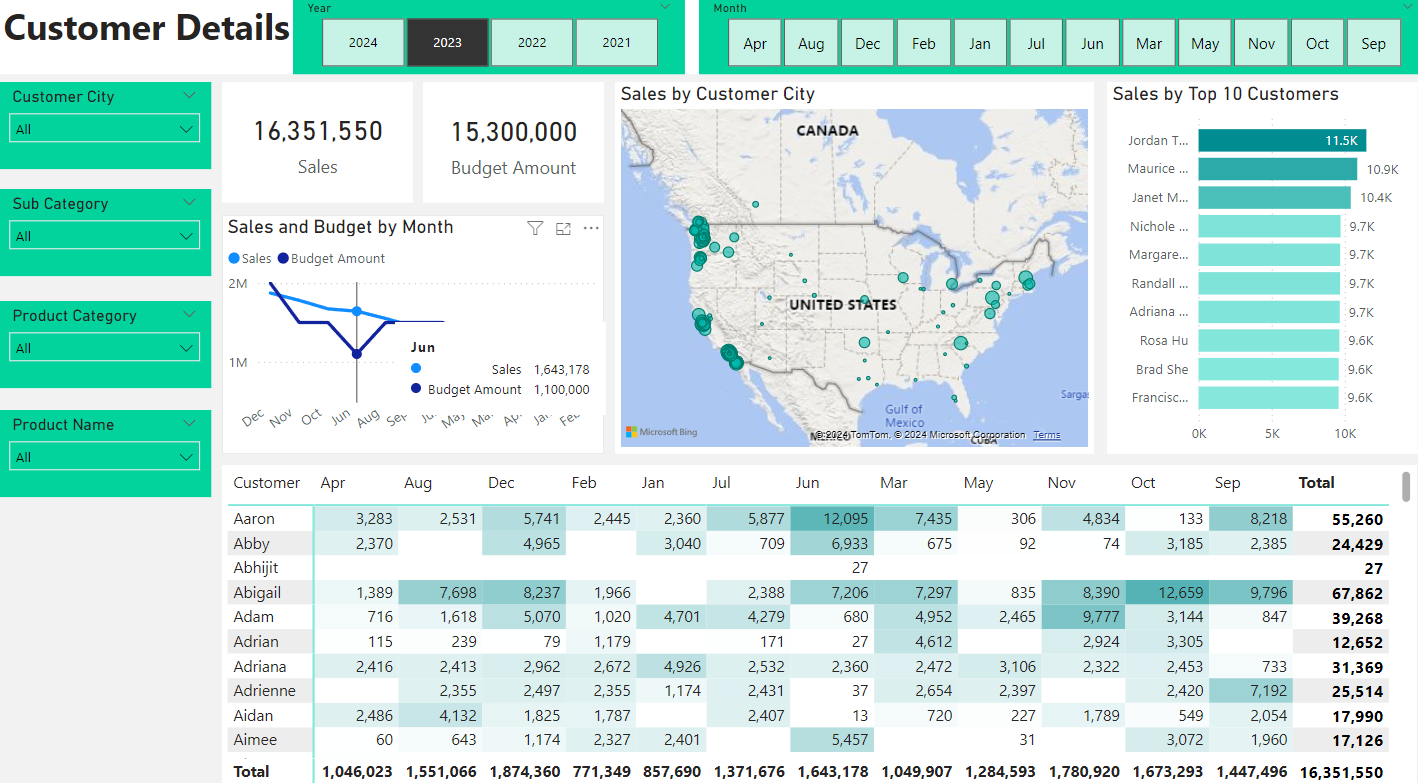

Layout of this report page (visuals, bound fields, positions):
{"tool":"powerbi","page":{"name":"Customer Details","canvas":[1280,720],"ordinal":1},"visuals":[{"type":"textbox","box":[0,0,1280,71.2],"z":0},{"type":"slicer","fields":{"Values":["DIM_Customers.Customer City"]},"box":[0,78.3,190.8,78.3],"z":1000},{"type":"slicer","fields":{"Values":["DIM_Products.Sub Category"]},"box":[0,173.6,190.8,78.3],"z":2000},{"type":"slicer","fields":{"Values":["DIM_Products.Product Category"]},"box":[0,273.9,190.8,78.3],"z":3000},{"type":"slicer","fields":{"Values":["DIM_Products.Product Name"]},"box":[0,371.7,190.8,78.3],"z":4000},{"type":"lineChart","title":"Sales and Budget by Month","fields":{"Y":["Key Measures.Sales","Key Measures.Budget Amount"],"Category":["DIM_Calender.MonthShort"]},"box":[200.5,196.9,342.4,214],"z":6000},{"type":"slicer","fields":{"Values":["DIM_Calender.MonthShort"]},"box":[627.5,0,652.5,71.2],"z":7000},{"type":"slicer","fields":{"Values":["DIM_Calender.Year"]},"box":[264.1,0,351,70.9],"z":8000},{"type":"barChart","title":"Sales by Top 10 Customers","fields":{"Y":["Key Measures.Sales"],"Category":["DIM_Customers.Full Name"]},"box":[992.9,78.3,277.6,332.6],"z":9000},{"type":"map","fields":{"Category":["DIM_Customers.Customer City"],"Size":["Key Measures.Sales"]},"box":[552.7,78.3,429.2,332.6],"z":10000},{"type":"card","fields":{"Values":["Key Measures.Sales"]},"box":[200.5,78.3,171.2,107.6],"z":10001},{"type":"card","fields":{"Values":["Key Measures.Budget Amount"]},"box":[380.6,77.9,162.1,108.4],"z":10002},{"type":"pivotTable","fields":{"Rows":["DIM_Customers.First Name"],"Columns":["DIM_Calender.MonthShort"],"Values":["Key Measures.Sales"]},"box":[200.5,420.7,1070,289.8],"z":10003}]}

Visuals, with their boxes in screenshot pixels (x1, y1, x2, y2), scaled from the page's 1280x720 canvas onto the 1418x783 screenshot:
textbox: <bbox>0, 0, 1417, 77</bbox>
slicer - DIM_Customers.Customer City: <bbox>0, 85, 211, 170</bbox>
slicer - DIM_Products.Sub Category: <bbox>0, 189, 211, 274</bbox>
slicer - DIM_Products.Product Category: <bbox>0, 298, 211, 383</bbox>
slicer - DIM_Products.Product Name: <bbox>0, 404, 211, 489</bbox>
"Sales and Budget by Month" lineChart: <bbox>222, 214, 601, 447</bbox>
slicer - DIM_Calender.MonthShort: <bbox>695, 0, 1417, 77</bbox>
slicer - DIM_Calender.Year: <bbox>293, 0, 681, 77</bbox>
"Sales by Top 10 Customers" barChart: <bbox>1100, 85, 1407, 447</bbox>
map - DIM_Customers.Customer City x Key Measures.Sales: <bbox>612, 85, 1088, 447</bbox>
card - Key Measures.Sales: <bbox>222, 85, 412, 202</bbox>
card - Key Measures.Budget Amount: <bbox>422, 85, 601, 203</bbox>
pivotTable - DIM_Customers.First Name x DIM_Calender.MonthShort: <bbox>222, 458, 1407, 773</bbox>
